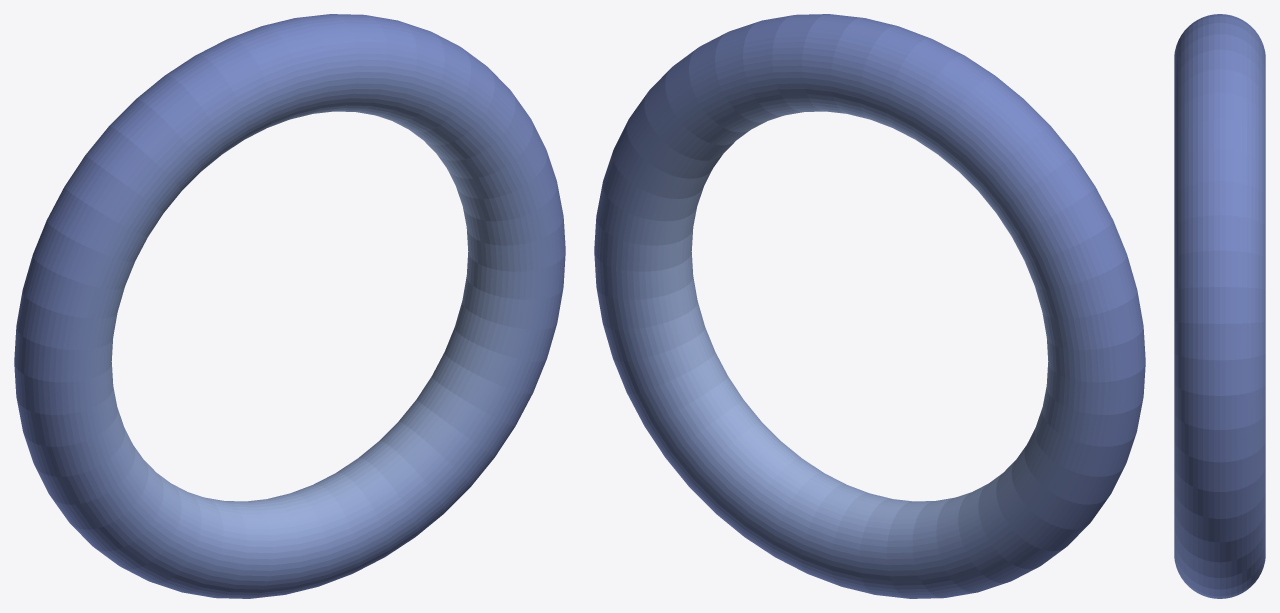
3 views of the same model, side by side, from view 1: azimuth 30°, elevation 25°; view 2: azimuth 150°, elevation 25°; view 3: azimuth 270°, elevation 25° (orthographic). The views are drawn at different scales.
Visible parts, largest first — view 1: world; view 2: world; view 3: world.
Part boxes in pixels (box(x1,y1,x2,y2)): world: box(14, 14, 565, 598); world: box(594, 14, 1145, 598); world: box(1174, 14, 1265, 598).
Size of the model in its own units: 22.93 by 22.89 by 3.59.
